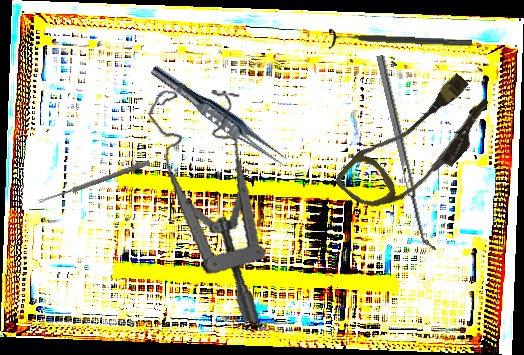Cannula: (332, 59, 501, 234)
Fixation Ring: (328, 27, 473, 55)
Spatula Surgical: (376, 52, 437, 255)
Speculum: (124, 82, 289, 323)
Surgical Spoon: (37, 159, 151, 205)
Tissue Forceps: (145, 61, 293, 171)
